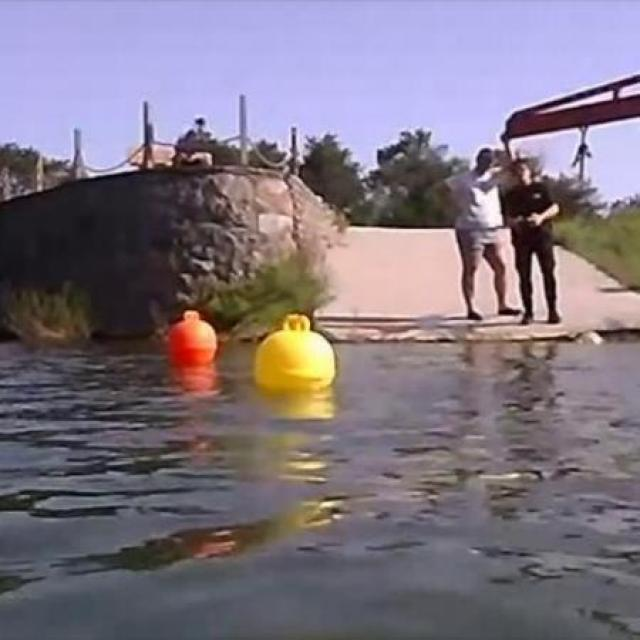buoy: (255, 317, 334, 396), (168, 308, 215, 363)
